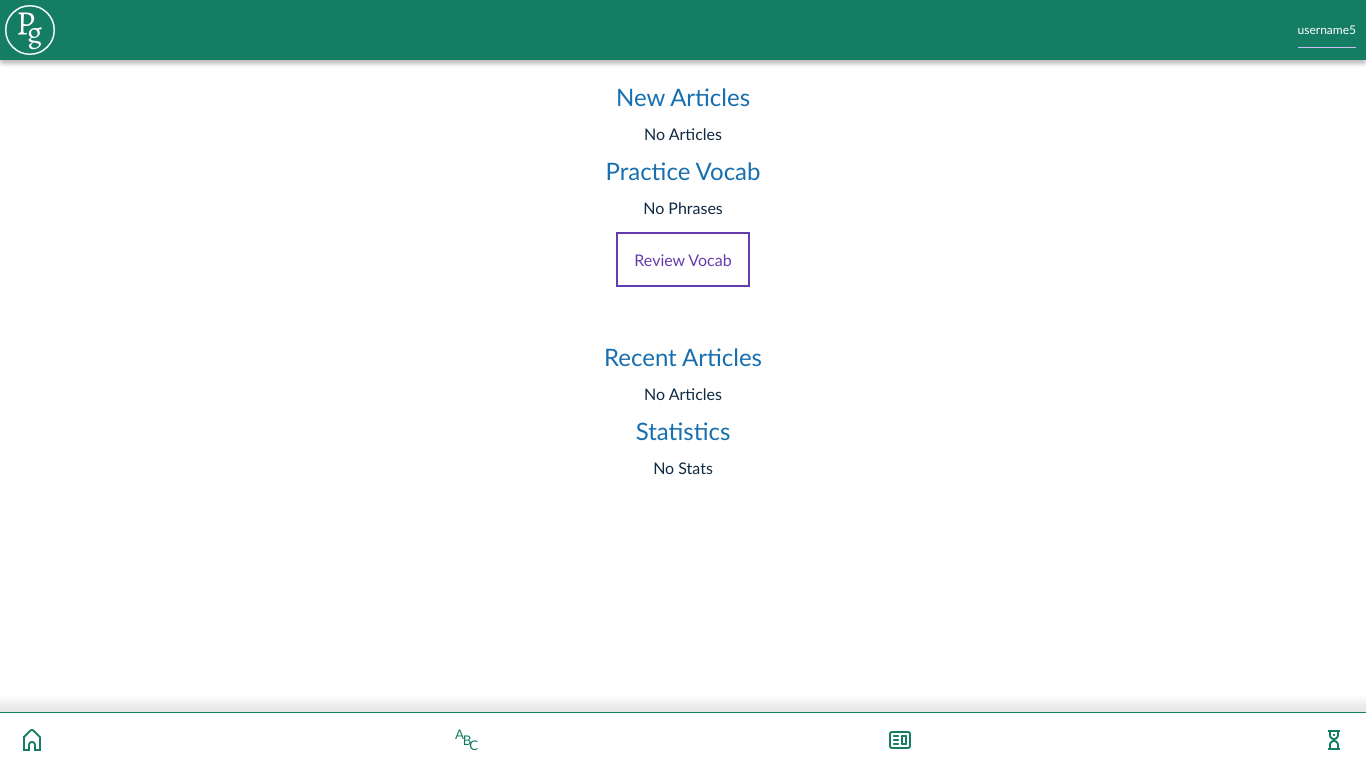
Test: Authenticated App › renders the Dashboard Page
The image size is (1366, 768).
Click the button "username5".
click(1327, 30)  # box [1298, 12, 1356, 48]
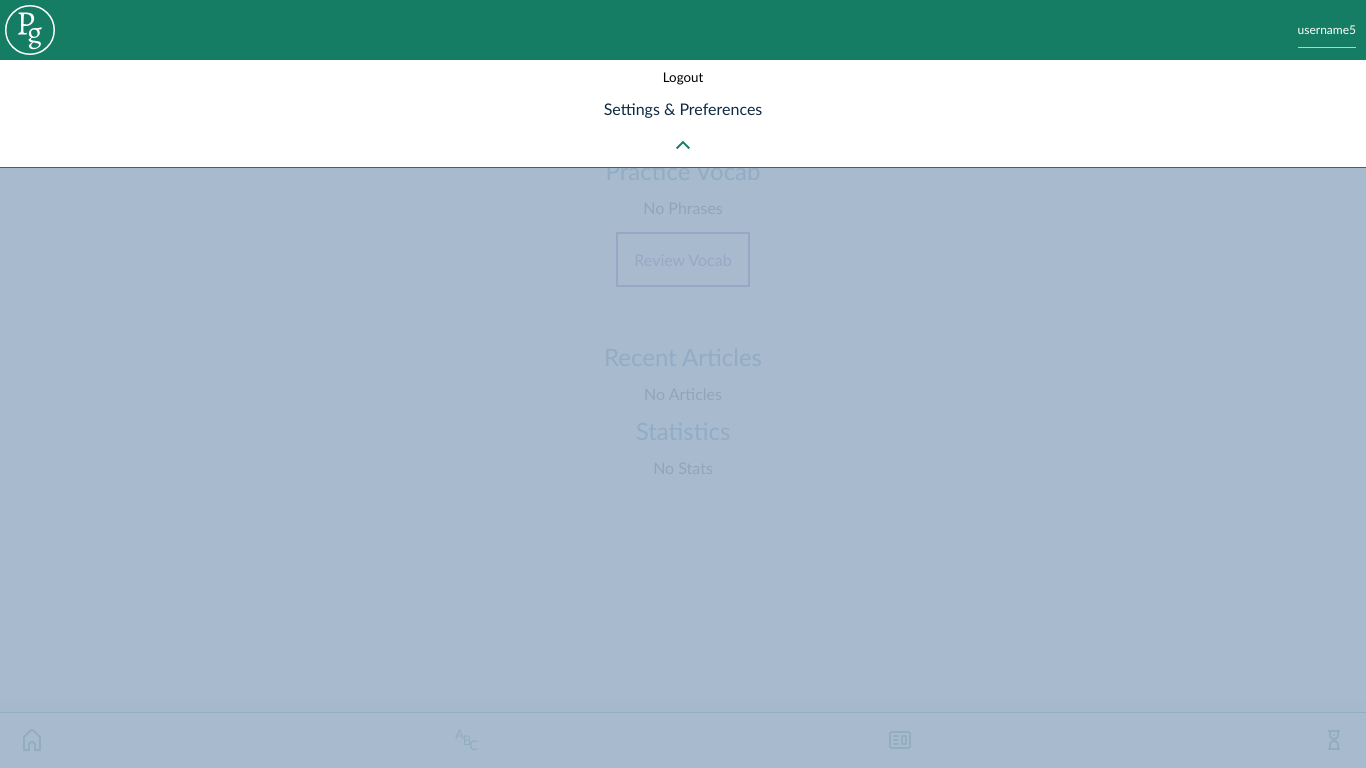
Expected: the dialog is shown
